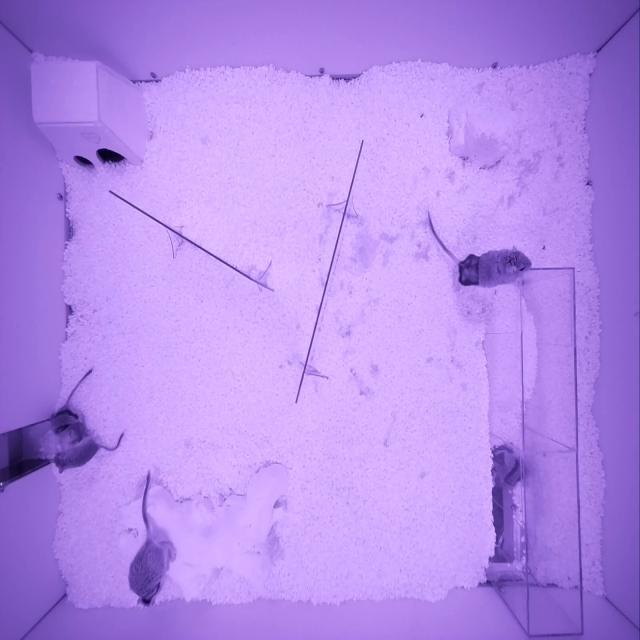adult_back: (457, 243, 532, 288)
adult_front: (127, 539, 177, 607)
pup_fluffy: (54, 437, 100, 474)
pup_h_stripe: (49, 405, 87, 450)
pup_v_stripe: (502, 455, 526, 488)
